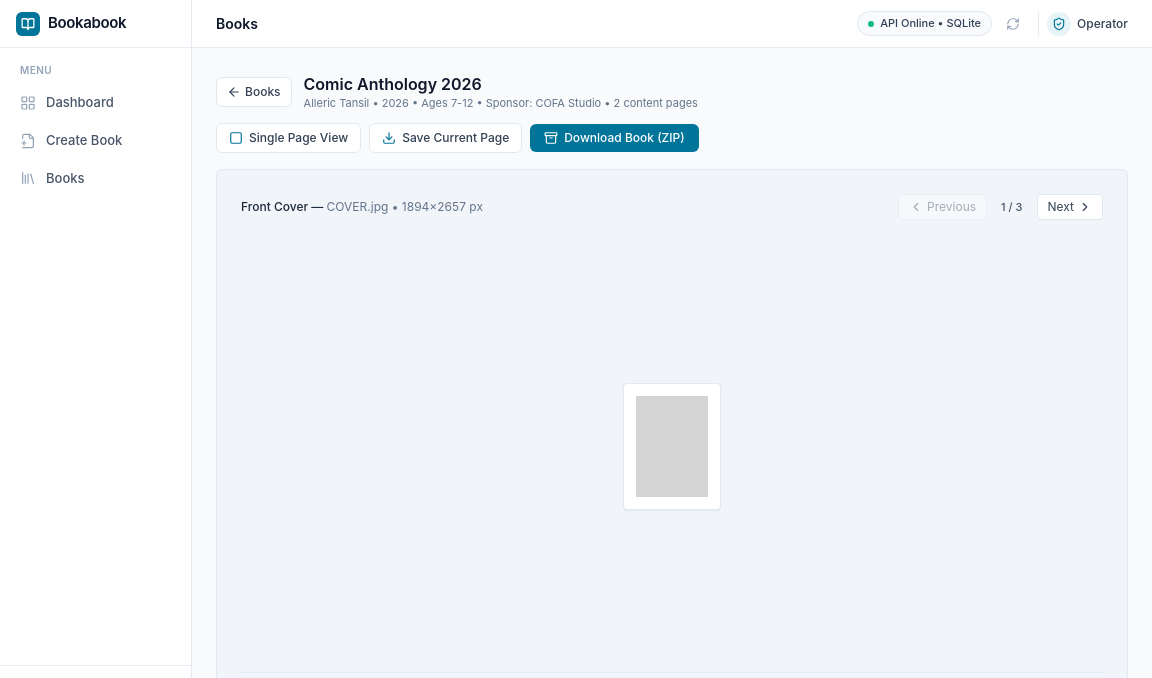
Test: Public Books Showcase (/books & /books/:id) › navigates spreads, thumbnails, and provides Save Current Page + Download Book (ZIP) on /books/:id
Expected: the heading "Comic Anthology 2026" is shown, [304, 74, 482, 94]
Expected: the text "Front Cover — COVER.jpg • 1894×2657 px" is shown, [241, 199, 483, 215]
Note: Advance to interior spread PAGE-01 + PAGE-02
Click the button "Next": (1070, 207) [1036, 194, 1103, 220]
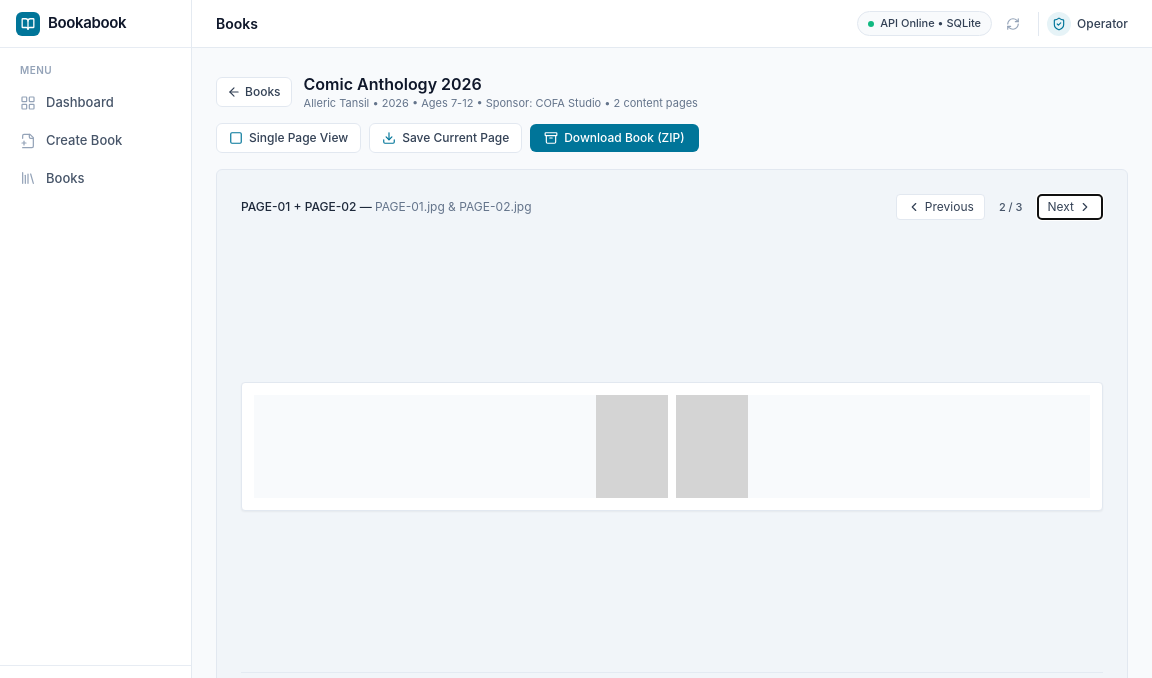
Result: the text "PAGE-01 + PAGE-02 — PAGE-01.jpg & PAGE-02.jpg" is shown at [241, 199, 532, 215]
Note: Advance to Backcover
Click the button "Next": (1070, 207) [1036, 194, 1103, 220]
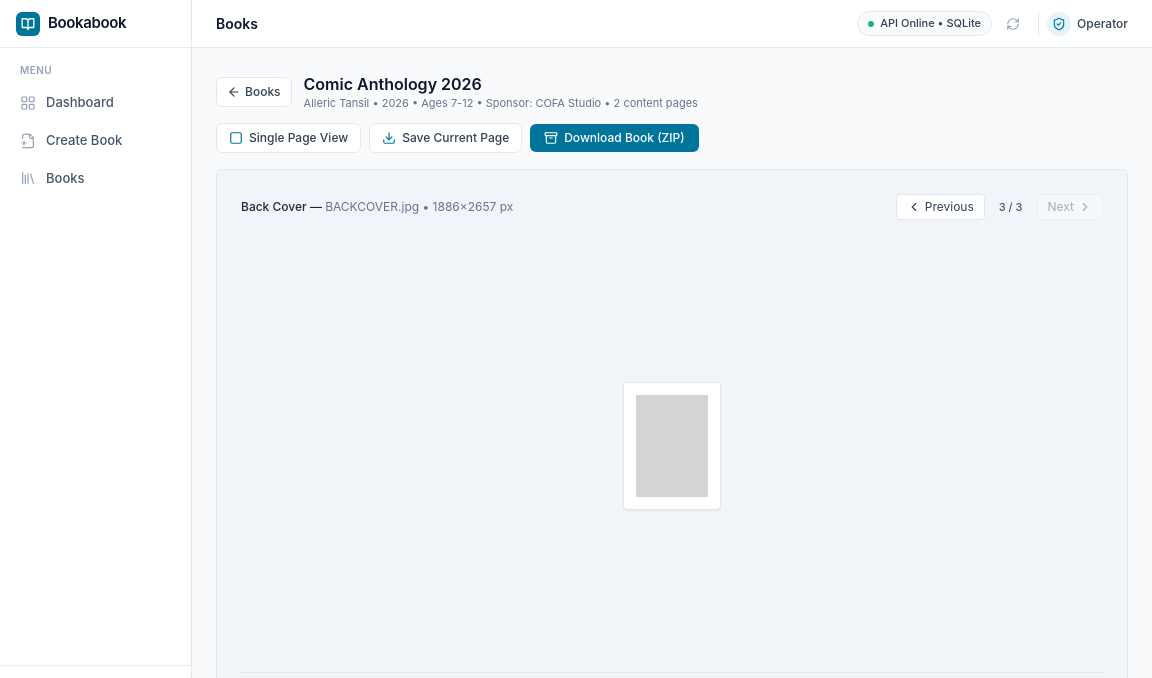
Result: the text "Back Cover — BACKCOVER.jpg • 1886×2657 px" is shown at [241, 199, 513, 215]
